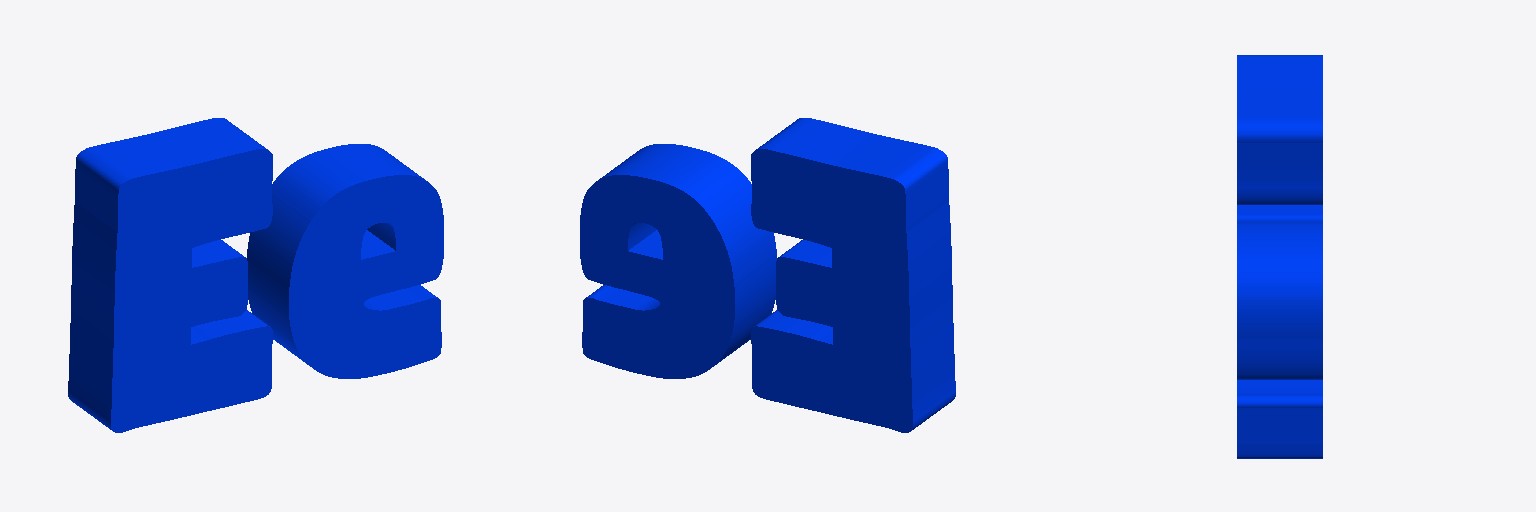
The model's file is Letter_e.obj.
The picture shows the model from 3 angles: view 1: azimuth 30°, elevation 25°; view 2: azimuth 150°, elevation 25°; view 3: azimuth 270°, elevation 25°; orthographic projection.
Visible parts, largest first — view 1: Text; view 2: Text; view 3: Text.
Part boxes in pixels (x1,y1,x2,y2): Text: (68,118,443,432); Text: (580,118,955,432); Text: (1237,55,1322,458).
Bounding box in the file's own units: 0.9004 × 0.6625 × 0.2.